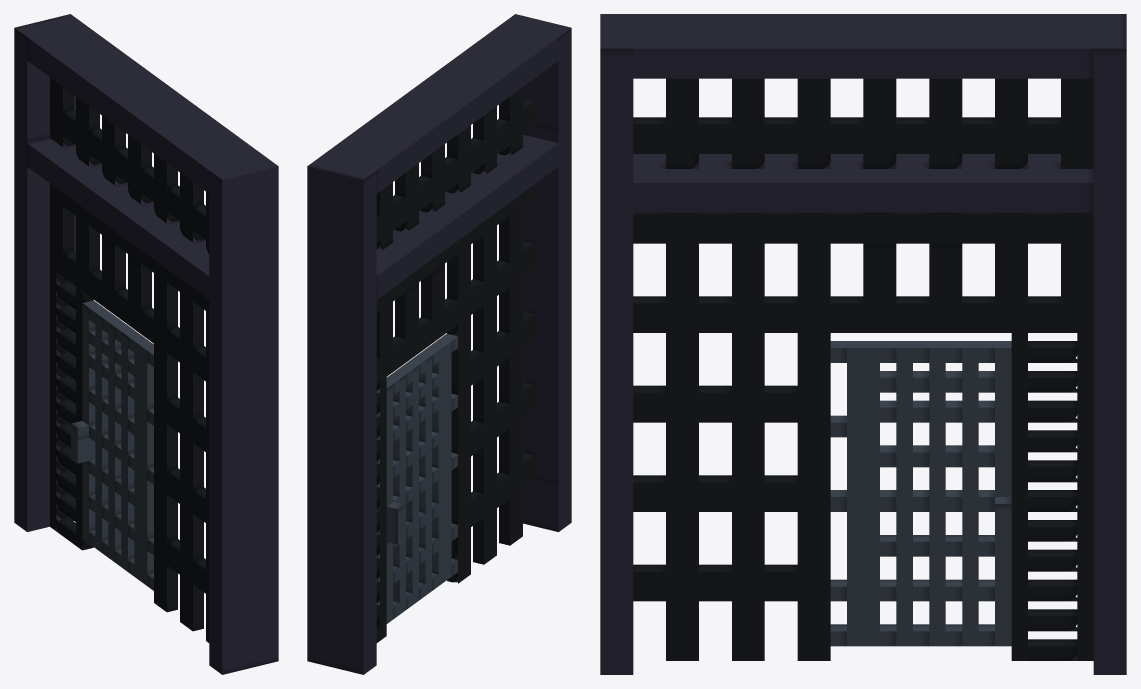
File: WIELKA_BRAMA_Z_DZWI.dae
3 views of the same model, side by side, from view 1: azimuth 30°, elevation 25°; view 2: azimuth 150°, elevation 25°; view 3: azimuth 270°, elevation 25° (orthographic). The views are drawn at different scales.
Visible parts, largest first — view 1: Content; view 2: Content; view 3: Content.
Boxes of the visible parts, x1,y1,x2,y2 form: Content: (14, 14, 278, 674); Content: (307, 14, 571, 674); Content: (600, 14, 1126, 674).
Size of the model in its own units: 5 by 42 by 32.
1 material, 1 textured.
